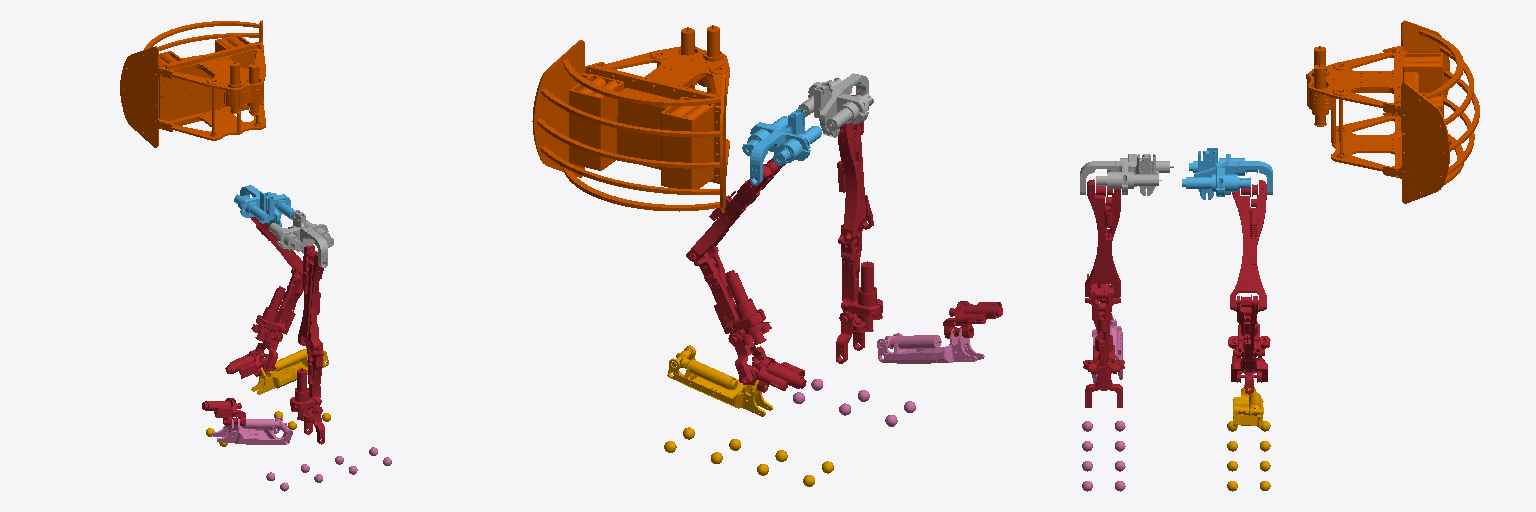
The robot description file, URDF, robot "caminante":
<?xml version="1.0" ?>

<robot name="caminante" >
  
  <link name="l_foot">
    <inertial>
      <mass value="0.410"/>
      <origin rpy="0 0 0" xyz="0.027 0 -0.067"/>
      <inertia ixx="0.002" ixy="0" ixz="0" iyy="0.007" iyz="0" izz="0.008"/>
    </inertial>
    <visual>
      <origin rpy="1.5657   -0.0000   -1.5708" xyz="0.0771   -0.0732    0.1504"/>
      <geometry>
        <mesh filename="meshes/Left_Foot.obj" scale="1 1 1"/>
      </geometry>
    </visual>
    <collision group="heel">
      <origin rpy="0 0 0" xyz="-0.0876 0.0300001 -0.070001"/>
      <geometry>
        <sphere radius="0.0"/>
      </geometry>
    </collision>
    <visual group="heel">
      <origin rpy="0 0 0" xyz="-0.0876 0.0300001 -0.070001"/>
      <geometry>
        <sphere radius="0.01"/>
      </geometry>
    </visual>
    <collision group="heel">
      <origin rpy="0 0 0" xyz="-0.0876 -0.0300001 -0.070001"/>
      <geometry>
        <sphere radius="0.0"/>
      </geometry>
    </collision>
    <visual group="heel">
      <origin rpy="0 0 0" xyz="-0.0876 -0.0300001 -0.070001"/>
      <geometry>
        <sphere radius="0.01"/>
      </geometry>
    </visual>
    <collision group="toe">
      <origin rpy="0 0 0" xyz="0.1728 0.0300001 -0.070001"/>
      <geometry>
        <sphere radius="0.0"/>
      </geometry>
    </collision>
    <visual group="toe">
      <origin rpy="0 0 0" xyz="0.1728 0.0300001 -0.070001"/>
      <geometry>
        <sphere radius="0.01"/>
      </geometry>
    </visual>
    <collision group="toe">
      <origin rpy="0 0 0" xyz="0.1728 -0.0300001 -0.070001"/>
      <geometry>
        <sphere radius="0.0"/>
      </geometry>
    </collision>
    <visual group="toe">
      <origin rpy="0 0 0" xyz="0.1728 -0.0300001 -0.070001"/>
      <geometry>
        <sphere radius="0.01"/>
      </geometry>
    </visual>
    <collision group="midfoot_front">
      <origin rpy="0 0 0" xyz="0.086 0.0300001 -0.070001"/>
      <geometry>
        <sphere radius="0.0"/>
      </geometry>
    </collision>
    <visual group="midfoot_front">
      <origin rpy="0 0 0" xyz="0.086 0.0300001 -0.070001"/>
      <geometry>
        <sphere radius="0.01"/>
      </geometry>
    </visual>
    <collision group="midfoot_front">
      <origin rpy="0 0 0" xyz="0.086 -0.0300001 -0.070001"/>
      <geometry>
        <sphere radius="0.0"/>
      </geometry>
    </collision>
    <visual group="midfoot_front">
      <origin rpy="0 0 0" xyz="0.086 -0.0300001 -0.070001"/>
      <geometry>
        <sphere radius="0.01"/>
      </geometry>
    </visual>
    <collision group="midfoot_rear">
      <origin rpy="0 0 0" xyz="-0.0008 0.0300001 -0.070001"/>
      <geometry>
        <sphere radius="0.0"/>
      </geometry>
    </collision>
    <visual group="midfoot_rear">
      <origin rpy="0 0 0" xyz="-0.0008 0.0300001 -0.070001"/>
      <geometry>
        <sphere radius="0.01"/>
      </geometry>
    </visual>
    <collision group="midfoot_rear">
      <origin rpy="0 0 0" xyz="-0.0008 -0.0300001 -0.070001"/>
      <geometry>
        <sphere radius="0.0"/>
      </geometry>
    </collision>
    <visual group="midfoot_rear">
      <origin rpy="0 0 0" xyz="-0.0008 -0.0300001 -0.070001"/>
      <geometry>
        <sphere radius="0.01"/>
      </geometry>
    </visual>
  </link>
 

  <link name="l_lglut">
    <inertial>
      <mass value="0.437298303222345"/>
      <origin rpy="0  0  0" xyz="-0.03492  0.03099  0.00015"/>
      <inertia ixx="0.000344658356090036" ixy="1.4438940947967E-05" ixz="5.03774354824921E-05" iyy="0.000819710121372963" iyz="1.99893504999227E-05" izz="0.00066955963284712"/>
    </inertial>
    <visual>
      <origin rpy="0  0  0" xyz="-0.00384 -0.3021  -0.06945"/>
      <geometry>
        <mesh filename="meshes/Left_Hip.obj" scale="1 1 1"/>
      </geometry>
    </visual>
  </link>
  <link name="l_lleg">
    <inertial>
      <mass value="0.512558545145301"/>
      <origin rpy="0  0  0" xyz="0      -0.11018  0.00843"/>
      <inertia ixx="0.00213377963819277" ixy="3.74835359824284E-05" ixz="4.14809936352257E-06" iyy="0.000231679313040171" iyz="0.000107877166470471" izz="0.0021213704718963"/>
    </inertial>
    <visual>
      <origin rpy="0  0  0" xyz="0.07301 -0.09254 -0.0714"/>
      <geometry>
        <mesh filename="meshes/Bottom_Left_Leg.obj" scale="1 1 1"/>
      </geometry>
      <material name="red">
        <color rgba ="0.675 0.169 0.216 1.0"/>
      </material>
    </visual>
  </link>

  <link name="l_talus">
    <inertial>
      <mass value="0.117206413777382"/>
      <origin rpy="0  0  0" xyz="0       0.00525  0.02552"/>
      <inertia ixx="0.000111896827570048" ixy="5.94543100842475E-07" ixz="2.57140126177776E-06" iyy="0.000105965848764851" iyz="2.65868228080628E-05" izz="4.20803404080659E-05"/>
    </inertial>
    <visual>
      <origin rpy="0  0  0" xyz="0.07317  0.12875 -0.07027"/>
      <geometry>
        <mesh filename="meshes/Left_Ankle.obj" scale="1 1 1"/>
      </geometry>
      <material name="red">
        <color rgba ="0.675 0.169 0.216 1.0"/>
      </material>
    </visual>
  </link>

<!--   
  <link name="l_uglut">
    <inertial>
      <mass value="1.959"/>
      <origin rpy="0 0 0" xyz="0.00529262 -0.00344732 0.00313046"/>
      <inertia ixx="0.00074276" ixy="-3.79607e-08" ixz="-2.79549e-05" iyy="0.000688179" iyz="-3.2735e-08" izz="0.00041242"/>
    </inertial>
    <visual>
      <geometry>
        <mesh filename="package://Atlas/urdf/meshes/l_uglut.obj"/>
      </geometry>
    </visual>
  </link-->
  <link name="l_uleg">
    <inertial>
      <mass value="0.498661421818378"/>
      <origin rpy="0  0  0" xyz="0      -0.09292 -0.00071"/>
      <inertia ixx="0.00222023286489819" ixy="2.76170328092637E-05" ixz="4.42071982951624E-07" iyy="0.000133616406118555" iyz="1.5209311638611E-05" izz="0.00230781854965746"/>
    </inertial>
    <visual>
      <origin rpy="0  0  0" xyz="0.07675 -0.30208 -0.07247"/>
      <geometry>
        <mesh filename="meshes/Top_Left_Leg.obj" scale="1 1 1"/>
      </geometry>
      <material name="red">
        <color rgba ="0.675 0.169 0.216 1.0"/>
      </material>
    </visual>
    <!-- to cover the logo shield -->
    <!-- inside strut -->
    <!-- outside strut -->
  </link>

  <link name="pelvis">
    <inertial>
      <mass value="3.53324885586669"/>
      <origin rpy="1.56567  0      -1.57079" xyz="0 0 0"/>
      <inertia ixx="0.0271179077728007" ixy="1.18852566353138E-05" ixz="2.95478792996208E-05" iyy="0.0323353494450389" iyz="0.00289482168449842" izz="0.0422145237899791"/>
    </inertial>
    <visual>
      <geometry>
        <!--mesh filename="package://Atlas/urdf/meshes/pelvis.obj"/-->
        <origin rpy="1.56567  0      -1.57079" xyz="0.0786    0.05923   -0.41164"/>
        <mesh filename="meshes/Body.obj" scale="1 1 1"/>
      </geometry>
    </visual>
  </link>
 
  <link name="r_foot">
    <inertial>
      <mass value="0.41"/>
      <origin rpy="0 0 0" xyz="0.027 0 -0.067"/>
      <inertia ixx="0.002" ixy="0" ixz="0" iyy="0.007" iyz="0" izz="0.008"/>
    </inertial>
    <visual>
      <origin rpy="1.5657   -0.0000   -1.5708" xyz="0.0771    0.1935    0.1504"/>
      <geometry>
        <mesh filename="meshes/Right_Foot.obj" scale="1 1 1"/>
      </geometry>
    </visual>
    <collision group="heel">
      <origin rpy="0 0 0" xyz="-0.0876 0.0300001 -0.070001"/>
      <geometry>
        <sphere radius="0.0"/>
      </geometry>
    </collision>
    <visual group="heel">
      <origin rpy="0 0 0" xyz="-0.0876 0.0300001 -0.070001"/>
      <geometry>
        <sphere radius="0.01"/>
      </geometry>
    </visual>
    <collision group="heel">
      <origin rpy="0 0 0" xyz="-0.0876 -0.0300001 -0.070001"/>
      <geometry>
        <sphere radius="0.0"/>
      </geometry>
    </collision>
    <visual group="heel">
      <origin rpy="0 0 0" xyz="-0.0876 -0.0300001 -0.070001"/>
      <geometry>
        <sphere radius="0.01"/>
      </geometry>
    </visual>
    <collision group="toe">
      <origin rpy="0 0 0" xyz="0.1728 0.0300001 -0.070001"/>
      <geometry>
        <sphere radius="0.0"/>
      </geometry>
    </collision>
    <visual group="toe">
      <origin rpy="0 0 0" xyz="0.1728 0.0300001 -0.070001"/>
      <geometry>
        <sphere radius="0.01"/>
      </geometry>
    </visual>
    <collision group="toe">
      <origin rpy="0 0 0" xyz="0.1728 -0.0300001 -0.070001"/>
      <geometry>
        <sphere radius="0.0"/>
      </geometry>
    </collision>
    <visual group="toe">
      <origin rpy="0 0 0" xyz="0.1728 -0.0300001 -0.070001"/>
      <geometry>
        <sphere radius="0.01"/>
      </geometry>
    </visual>
    <collision group="midfoot_front">
      <origin rpy="0 0 0" xyz="0.086 0.0300001 -0.070001"/>
      <geometry>
        <sphere radius="0.0"/>
      </geometry>
    </collision>
    <visual group="midfoot_front">
      <origin rpy="0 0 0" xyz="0.086 0.0300001 -0.070001"/>
      <geometry>
        <sphere radius="0.01"/>
      </geometry>
    </visual>
    <collision group="midfoot_front">
      <origin rpy="0 0 0" xyz="0.086 -0.0300001 -0.070001"/>
      <geometry>
        <sphere radius="0.0"/>
      </geometry>
    </collision>
    <visual group="midfoot_front">
      <origin rpy="0 0 0" xyz="0.086 -0.0300001 -0.070001"/>
      <geometry>
        <sphere radius="0.01"/>
      </geometry>
    </visual>
    <collision group="midfoot_rear">
      <origin rpy="0 0 0" xyz="-0.0008 0.0300001 -0.070001"/>
      <geometry>
        <sphere radius="0.0"/>
      </geometry>
    </collision>
    <visual group="midfoot_rear">
      <origin rpy="0 0 0" xyz="-0.0008 0.0300001 -0.070001"/>
      <geometry>
        <sphere radius="0.01"/>
      </geometry>
    </visual>
    <collision group="midfoot_rear">
      <origin rpy="0 0 0" xyz="-0.0008 -0.0300001 -0.070001"/>
      <geometry>
        <sphere radius="0.0"/>
      </geometry>
    </collision>
    <visual group="midfoot_rear">
      <origin rpy="0 0 0" xyz="-0.0008 -0.0300001 -0.070001"/>
      <geometry>
        <sphere radius="0.01"/>
      </geometry>
    </visual>
  </link>


  
  <link name="r_lglut">
    <inertial>
      <mass value="0.429542604129865"/>
      <origin rpy="0  0  0" xyz="0.03461  0.03088  0.00015"/>
      <inertia ixx="0.000335620222780637" ixy="1.71766252899159E-05" ixz="6.82036560203188E-05" iyy="0.000796625170345829" iyz="1.87749814800264E-05" izz="0.000651844767117383"/>
    </inertial>
    <visual>
      <origin rpy="0  0  0" xyz="-0.11497 -0.30207 -0.0756"/>
      <geometry>
        <mesh filename="meshes/Right_Hip.obj" scale="1 1 1"/>
      </geometry>
    </visual>
  </link>
  <link name="r_lleg">
    <inertial>
      <mass value="0.496399914621672"/>
      <origin rpy="0  0  0" xyz="0      -0.11414  0.00893"/>
      <inertia ixx="0.00193251368574828" ixy="2.87905126861506E-05" ixz="3.64310219704147E-06" iyy="0.000228879661927419" iyz="9.27392912409724E-05" izz="0.00191229395918849"/>
    </inertial>
    <visual>
      <origin rpy="0  0  0" xyz="-0.1935  -0.09254 -0.0714"/>
      <geometry>
        <mesh filename="meshes/Bottom_Right_Leg.obj" scale="1 1 1"/>
      </geometry>
      <material name="red">
        <color rgba ="0.675 0.169 0.216 1.0"/>
      </material>
    </visual>
  </link>

  <link name="r_talus">
    <inertial>
      <mass value="0.113529232705104"/>
      <origin rpy="0  0  0" xyz="0       0.00601  0.02692"/>
      <inertia ixx="0.000102683690789615" ixy="5.24094963661094E-07" ixz="2.43532379680455E-06" iyy="9.8810717962194E-05" iyz="2.27559446851328E-05" izz="3.98903277983113E-05"/>
    </inertial>
    <visual>
      <origin rpy="0  0  0" xyz="-0.19355  0.12875 -0.07027"/>
      <geometry>
        <mesh filename="meshes/Right_Ankle.obj" scale="1 1 1"/>
      </geometry>
      <material name="red">
        <color rgba ="0.675 0.169 0.216 1.0"/>
      </material>
    </visual>
  </link>


<!--   <link name="r_uglut">
    <inertial>
      <mass value="1.959"/>
      <origin rpy="0 0 0" xyz="0.00529262 0.00344732 0.00313046"/>
      <inertia ixx="0.00074276" ixy="3.79607e-08" ixz="-2.79549e-05" iyy="0.000688179" iyz="3.2735e-08" izz="0.00041242"/>
    </inertial>
    <visual>
      <geometry>
        <mesh filename="package://Atlas/urdf/meshes/r_uglut.obj"/>
      </geometry>
    </visual>
  </link-->
  <link name="r_uleg">
    <inertial>
      <mass value="0.473894617598188"/>
      <origin rpy="0  0  0" xyz="0      -0.09427 -0.00073"/>
      <inertia ixx="0.00219613513040201" ixy="2.41554166439975E-05" ixz="4.92477643768768E-07" iyy="0.000130736562803138" iyz="1.49414818095768E-05" izz="0.00228460638702232"/>
    </inertial>
    <visual>
      <origin rpy="0  0  0" xyz="-0.19021 -0.30208 -0.07247"/>
      <geometry>
        <mesh filename="meshes/Top_Right_Leg.obj" scale="1 1 1"/>
      </geometry>
      <material name="red">
        <color rgba ="0.675 0.169 0.216 1.0"/>
      </material>
    </visual>
    <!-- to cover the logo shield -->
    <!-- inside strut -->
    <!-- outside strut -->
 </link> 







  <joint name="l_leg_akx" type="revolute">
    <origin rpy="-0.0012    1.5657    1.5696" xyz="0   -0.0220    0.0060"/>
    <axis xyz="1 0 0"/>
    <parent link="l_talus"/>
    <child link="l_foot"/>
    <dynamics damping="0.1" friction="0"/>
    <limit effort="360" lower="-0.8" upper="0.8" velocity="12"/>
    <safety_controller k_position="100" k_velocity="100" soft_lower_limit="-10.8" soft_upper_limit="10.8"/>
  </joint>
  <joint name="l_leg_aky" type="revolute">
    <origin rpy="0  0  0" xyz="-1.50000000e-04  -2.21290000e-01  -1.13000000e-03"/>
    <axis xyz="-1  0  0"/>
    <parent link="l_lleg"/>
    <child link="l_talus"/>
    <dynamics damping="0.1" friction="0"/>
    <limit effort="740" lower="-1" upper="0.7" velocity="12"/>
    <safety_controller k_position="100" k_velocity="100" soft_lower_limit="-11" soft_upper_limit="10.7"/>
  </joint>
  <joint name="l_leg_hpx" type="revolute">
    <!--origin rpy="0 0 0" xyz="0 0.089 0"/-->
    <origin rpy="1.56567  0      -1.57079" xyz="0.0107    0.05539   -0.10919"/>
    <!--axis xyz="1 0 0"/-->
    <axis xyz="0      -0.00511  0.99998"/>  
    <parent link="pelvis"/>
    <child link="l_lglut"/>
    <dynamics damping="0.1" friction="0"/>
    <limit effort="530" lower="-0.523599" upper="0.523599" velocity="12"/>
    <safety_controller k_position="100" k_velocity="100" soft_lower_limit="-10.5236" soft_upper_limit="10.5236"/>
  </joint>
  <joint name="l_leg_hpy" type="revolute">
    <!--origin rpy="0 0 0" xyz="0.05 0.0225 -0.033"/-->
    <origin rpy="0  0  0" xyz="-8.05900000e-02  -1.00000000e-05   3.02000000e-03"/>
    <axis xyz="-1  0  0"/>
    <parent link="l_lglut"/>
    <child link="l_uleg"/>
    <dynamics damping="0.1" friction="0"/>
    <limit effort="840" lower="-1.61234" upper="0.65764" velocity="12"/>
    <safety_controller k_position="100" k_velocity="100" soft_lower_limit="-11.6123" soft_upper_limit="10.6576"/>
  </joint>
<!--   <joint name="l_leg_hpz" type="fixed">
    <origin rpy="0 0 0" xyz="0 0.089 0"/>
    <axis xyz="0 0 1"/>
    <parent link="pelvis"/>
    <child link="l_uglut"/>
    <dynamics damping="0.1" friction="0"/>
    <limit effort="275" lower="-0.174358" upper="0.786794" velocity="12"/>
    <safety_controller k_position="100" k_velocity="100" soft_lower_limit="-10.1744" soft_upper_limit="10.7868"/>
  </joint> -->
  <joint name="l_leg_kny" type="revolute">
    <origin rpy="0  0  0" xyz="0.00373 -0.20954 -0.00107"/>
    <axis xyz="-1  0  0"/>
    <parent link="l_uleg"/>
    <child link="l_lleg"/>
    <dynamics damping="0.1" friction="0"/>
    <limit effort="890" lower="0" upper="2.35637" velocity="12"/>
    <safety_controller k_position="100" k_velocity="100" soft_lower_limit="-10" soft_upper_limit="12.3564"/>
  </joint>



  <joint name="r_leg_akx" type="revolute">
    <origin rpy="-0.0012    1.5657    1.5696" xyz="0   -0.0220    0.0060"/>
    <axis xyz="1 0 0"/>
    <parent link="r_talus"/>
    <child link="r_foot"/>
    <dynamics damping="0.1" friction="0"/>
    <limit effort="360" lower="-0.8" upper="0.8" velocity="12"/>
    <safety_controller k_position="100" k_velocity="100" soft_lower_limit="-10.8" soft_upper_limit="10.8"/>
  </joint>
  <joint name="r_leg_aky" type="revolute">
    <origin rpy="0  0  0" xyz="4.00000000e-05  -2.21290000e-01  -1.13000000e-03"/>
    <axis xyz="-1  0  0"/>
    <parent link="r_lleg"/>
    <child link="r_talus"/>
    <dynamics damping="0.1" friction="0"/>
    <limit effort="740" lower="-1" upper="0.7" velocity="12"/>
    <safety_controller k_position="100" k_velocity="100" soft_lower_limit="-11" soft_upper_limit="10.7"/>
  </joint>
  <joint name="r_leg_hpx" type="revolute">
    <origin rpy="1.56567  0      -1.57079" xyz="0.00455  -0.05573  -0.10919"/>
    <axis xyz="0       0.00511 -0.99998"/>
    <parent link="pelvis"/>
    <child link="r_lglut"/>
    <dynamics damping="0.1" friction="0"/>
    <limit effort="530" lower="-0.523599" upper="0.523599" velocity="12"/>
    <safety_controller k_position="100" k_velocity="100" soft_lower_limit="-10.5236" soft_upper_limit="10.5236"/>
  </joint>
  <joint name="r_leg_hpy" type="revolute">
    <origin rpy="0  0  0" xyz="7.52400000e-02   1.00000000e-05  -3.13000000e-03"/>
    <axis xyz="-1  0  0"/>
    <parent link="r_lglut"/>
    <child link="r_uleg"/>
    <dynamics damping="0.1" friction="0"/>
    <limit effort="840" lower="-1.61234" upper="0.65764" velocity="12"/>
    <safety_controller k_position="100" k_velocity="100" soft_lower_limit="-11.6123" soft_upper_limit="10.6576"/>
  </joint>
<!--   <joint name="r_leg_hpz" type="fixed">
    <origin rpy="0 0 0" xyz="0 -0.089 0"/>
    <axis xyz="0 0 1"/>
    <parent link="pelvis"/>
    <child link="r_uglut"/>
    <dynamics damping="0.1" friction="0"/>
    <limit effort="275" lower="-0.786794" upper="0.174358" velocity="12"/>
    <safety_controller k_position="100" k_velocity="100" soft_lower_limit="-10.7868" soft_upper_limit="10.1744"/>
  </joint> -->
  <joint name="r_leg_kny" type="revolute">
    <origin rpy="0  0  0" xyz="0.00328 -0.20954 -0.00107"/>
    <axis xyz="-1  0  0"/>
    <parent link="r_uleg"/>
    <child link="r_lleg"/>
    <dynamics damping="0.1" friction="0"/>
    <limit effort="890" lower="0" upper="2.35637" velocity="12"/>
    <safety_controller k_position="100" k_velocity="100" soft_lower_limit="-10" soft_upper_limit="12.3564"/>
  </joint>
 
  <frame link="l_foot" name="l_foot_sole" rpy="0 0 0" xyz="0.0426  0.0017 -0.070001"/>
  <frame link="r_foot" name="r_foot_sole" rpy="0 0 0" xyz="0.0426 -0.0017 -0.070001"/>
  <frame link="l_foot" name="l_foot_toe" rpy="0 0 0" xyz="0.1728 0.0017 -0.070001"/>
  <frame link="r_foot" name="r_foot_toe" rpy="0 0 0" xyz="0.1728 -0.0017 -0.070001"/>



 
  



  <transmission name="l_leg_kny_trans" type="pr2_mechanism_model/SimpleTransmission">
    <actuator name="l_leg_kny_motor"/>
    <joint name="l_leg_kny"/>
    <mechanicalReduction>1</mechanicalReduction>
  </transmission>
  <transmission name="l_leg_akx_trans" type="pr2_mechanism_model/SimpleTransmission">
    <actuator name="l_leg_akx_motor"/>
    <joint name="l_leg_akx"/>
    <mechanicalReduction>1</mechanicalReduction>
  </transmission>
  <transmission name="l_leg_hpy_trans" type="pr2_mechanism_model/SimpleTransmission">
    <actuator name="l_leg_hpy_motor"/>
    <joint name="l_leg_hpy"/>
    <mechanicalReduction>1</mechanicalReduction>
  </transmission>
  <transmission name="l_leg_hpx_trans" type="pr2_mechanism_model/SimpleTransmission">
    <actuator name="l_leg_hpx_motor"/>
    <joint name="l_leg_hpx"/>
    <mechanicalReduction>1</mechanicalReduction>
  </transmission>
  <transmission name="l_leg_aky_trans" type="pr2_mechanism_model/SimpleTransmission">
    <actuator name="l_leg_aky_motor"/>
    <joint name="l_leg_aky"/>
    <mechanicalReduction>1</mechanicalReduction>
  </transmission>



  <transmission name="r_leg_kny_trans" type="pr2_mechanism_model/SimpleTransmission">
    <actuator name="r_leg_kny_motor"/>
    <joint name="r_leg_kny"/>
    <mechanicalReduction>1</mechanicalReduction>
  </transmission>
  <transmission name="r_leg_akx_trans" type="pr2_mechanism_model/SimpleTransmission">
    <actuator name="r_leg_akx_motor"/>
    <joint name="r_leg_akx"/>
    <mechanicalReduction>1</mechanicalReduction>
  </transmission>
  <transmission name="r_leg_hpy_trans" type="pr2_mechanism_model/SimpleTransmission">
    <actuator name="r_leg_hpy_motor"/>
    <joint name="r_leg_hpy"/>
    <mechanicalReduction>1</mechanicalReduction>
  </transmission>
  <transmission name="r_leg_hpx_trans" type="pr2_mechanism_model/SimpleTransmission">
    <actuator name="r_leg_hpx_motor"/>
    <joint name="r_leg_hpx"/>
    <mechanicalReduction>1</mechanicalReduction>
  </transmission>
  <transmission name="r_leg_aky_trans" type="pr2_mechanism_model/SimpleTransmission">
    <actuator name="r_leg_aky_motor"/>
    <joint name="r_leg_aky"/>
    <mechanicalReduction>1</mechanicalReduction>
  </transmission>



</robot>

--- Render facts (derived) ---
3 views of the same robot in one strip: view 1: azimuth 30°, elevation 25°; view 2: azimuth 150°, elevation 25°; view 3: azimuth 270°, elevation 25° (orthographic).
Robot: caminante — 11 links, 10 joints (10 revolute); root link pelvis; default pose: every joint at zero.
Visible links, largest first — view 1: pelvis, l_lleg, r_foot, r_lleg, r_uleg, r_lglut, l_foot, l_lglut, r_talus, l_talus, l_uleg; view 2: pelvis, l_lleg, l_foot, r_lleg, r_foot, l_lglut, r_lglut, r_uleg, l_uleg, r_talus, l_talus; view 3: pelvis, l_lglut, r_lleg, l_uleg, r_uleg, r_lglut, l_lleg, l_foot, r_foot.
Link boxes in pixels (x1,y1,x2,y2): pelvis: (120,20,265,147); l_lleg: (251,269,303,370); r_foot: (212,417,391,491); r_lleg: (290,339,324,444); r_uleg: (298,245,323,354); r_lglut: (269,210,333,267); l_foot: (206,349,330,446); l_lglut: (234,185,294,226); r_talus: (202,398,245,425); l_talus: (225,350,275,378); l_uleg: (250,217,302,274); pelvis: (532,25,729,212); l_lleg: (691,246,771,384); l_foot: (664,345,833,486); r_lleg: (836,221,882,363); r_foot: (793,328,984,426); l_lglut: (742,109,821,185); r_lglut: (798,73,873,137); r_uleg: (837,95,873,241); l_uleg: (686,155,784,261); r_talus: (943,301,1002,338); l_talus: (739,357,806,392); pelvis: (1306,20,1479,203); l_lglut: (1182,148,1272,199); r_lleg: (1083,287,1124,407); l_uleg: (1230,180,1266,307); r_uleg: (1085,179,1120,297); r_lglut: (1080,154,1173,195); l_lleg: (1228,295,1270,382); l_foot: (1227,385,1270,491); r_foot: (1082,315,1125,491).
Size in the robot's own frame: 0.5131 by 0.7353 by 0.8386 metres.
Meshes: 11 distinct files referenced, 11 mesh visuals loaded (11 OBJ).